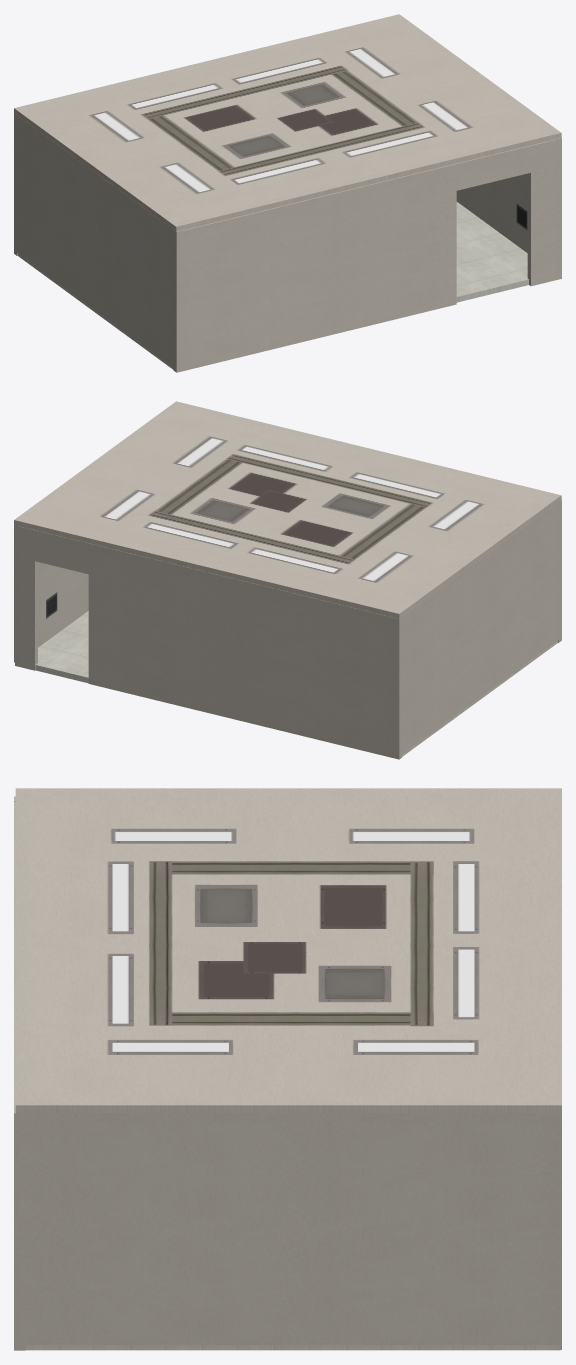
The model's file is Paredes_Quirofano.fbx.
3 renders of one model, top to bottom at view 1: azimuth 30°, elevation 25°; view 2: azimuth 150°, elevation 25°; view 3: azimuth 270°, elevation 25°, orthographic. The views are drawn at different scales.
Visible parts, largest first — view 1: Techo1, ParedE, ParedN, piso, ParedS; view 2: Techo1, ParedOe, ParedN, ParedS, piso; view 3: Techo1, ParedS, piso, ParedE.
Boxes of the visible parts, x1,y1,x2,y2 form: Techo1: [14, 14, 561, 231]; ParedE: [173, 138, 561, 372]; ParedN: [14, 113, 181, 369]; piso: [17, 202, 528, 369]; ParedS: [456, 137, 561, 252]; Techo1: [14, 401, 561, 618]; ParedOe: [15, 525, 402, 759]; ParedN: [399, 500, 561, 756]; ParedS: [14, 525, 88, 662]; piso: [35, 611, 557, 756]; Techo1: [15, 788, 561, 1113]; ParedS: [14, 1109, 561, 1345]; piso: [25, 1345, 560, 1350]; ParedE: [14, 797, 25, 1350].
Bounding box in the file's own units: 51.91 × 18.75 × 37.93.
